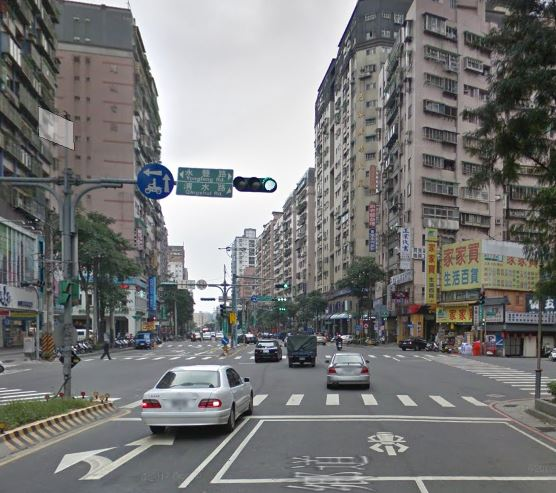Traffic_light_green: (235, 174, 279, 194)
car: (138, 360, 257, 433), (324, 347, 373, 391), (253, 336, 284, 362)
